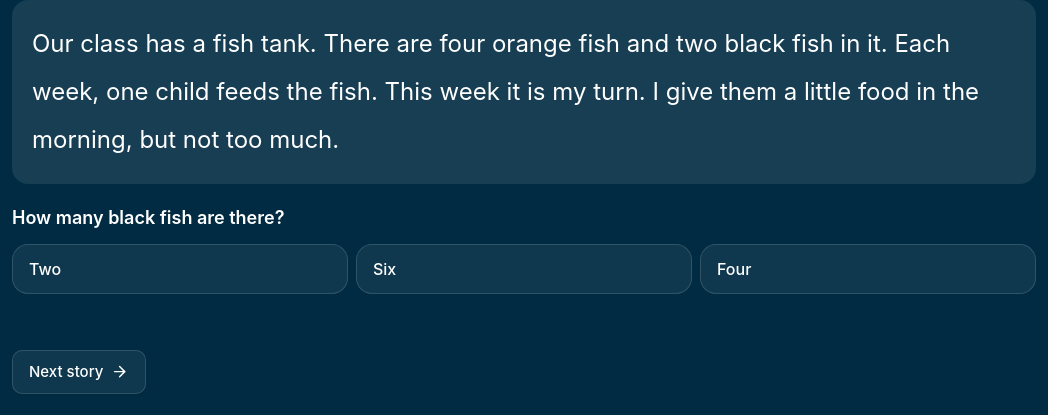
the story to read › tells every story once before it tells any again
The width and height of the screenshot is (1048, 415).
Click the button "Next story": (79, 372) x1=12 y1=350 x2=146 y2=394
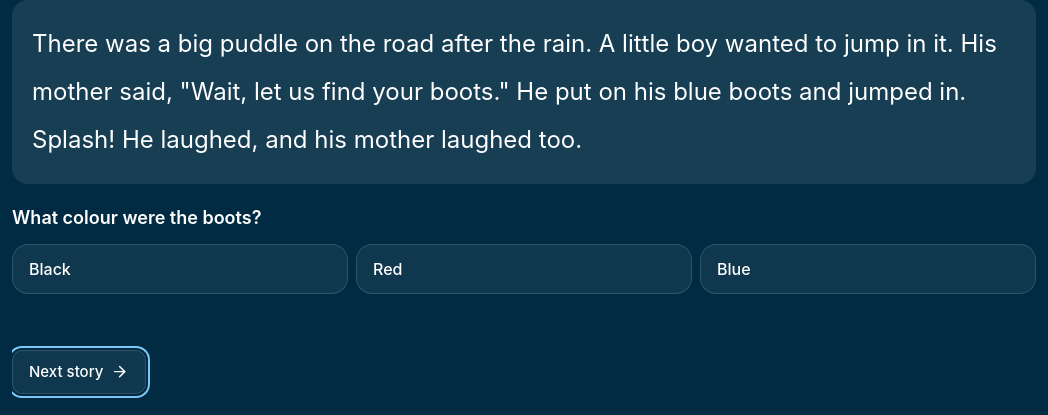
Click the button "Next story": (79, 372) x1=12 y1=350 x2=146 y2=394
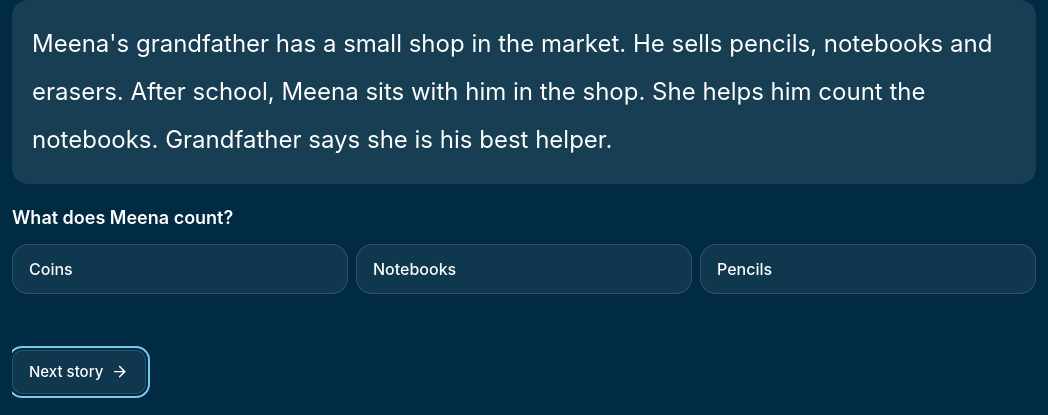
Click the button "Next story": (79, 372) x1=12 y1=350 x2=146 y2=394
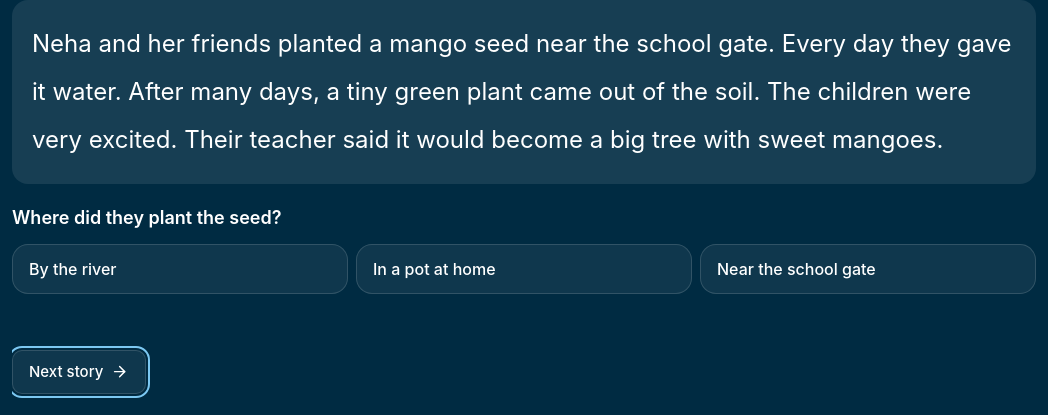
Click the button "Next story": (79, 372) x1=12 y1=350 x2=146 y2=394
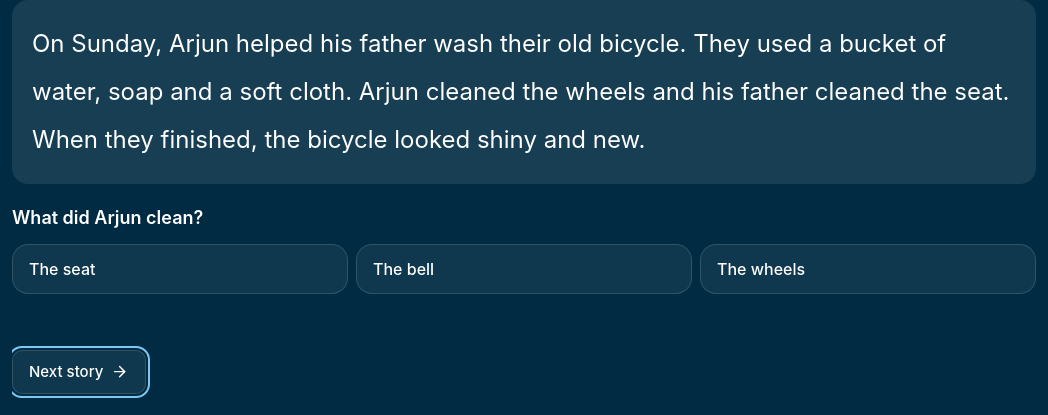
Click the button "Next story": (79, 372) x1=12 y1=350 x2=146 y2=394
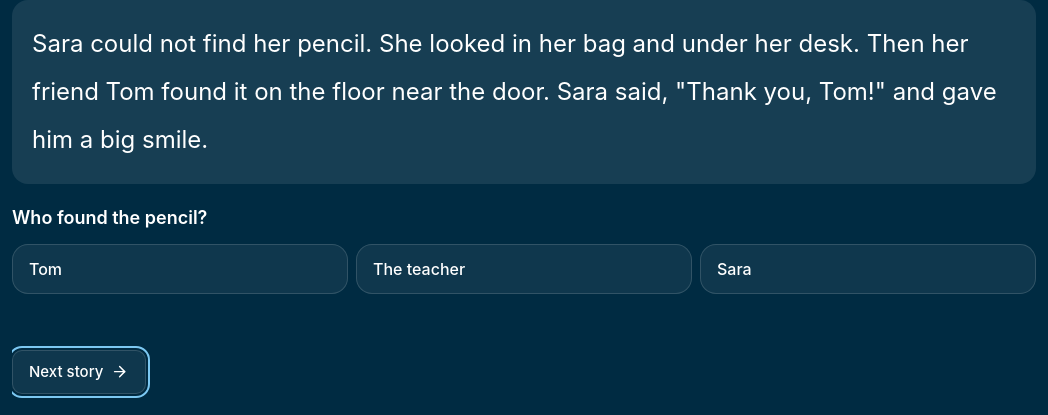
Click the button "Next story": (79, 372) x1=12 y1=350 x2=146 y2=394
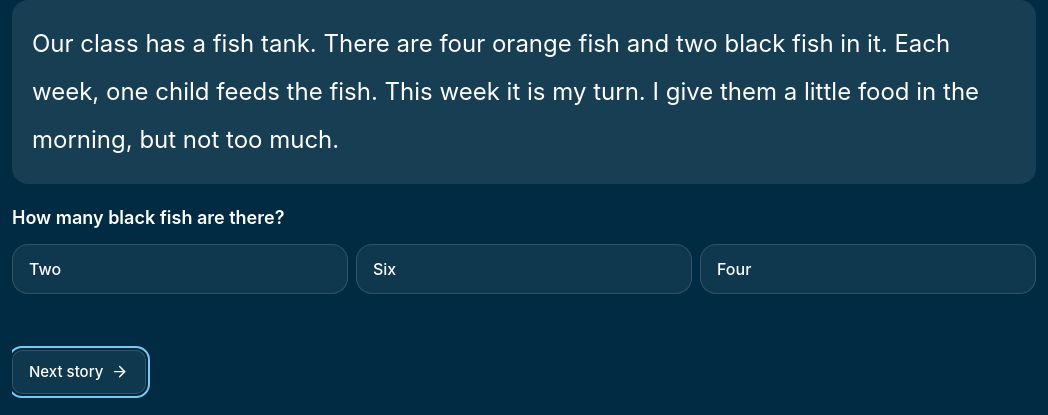
Now the text "Our class has a fish tank. There are four orange fish and two black fish in it. Each week, one child feeds the fish. Thi" shows "Our class has a fish tank. There are four orange fish and two black fish in it. Each week, one child feeds the fish. This week it is my turn. I give them a litt", box x1=32 y1=29 x2=979 y2=154
